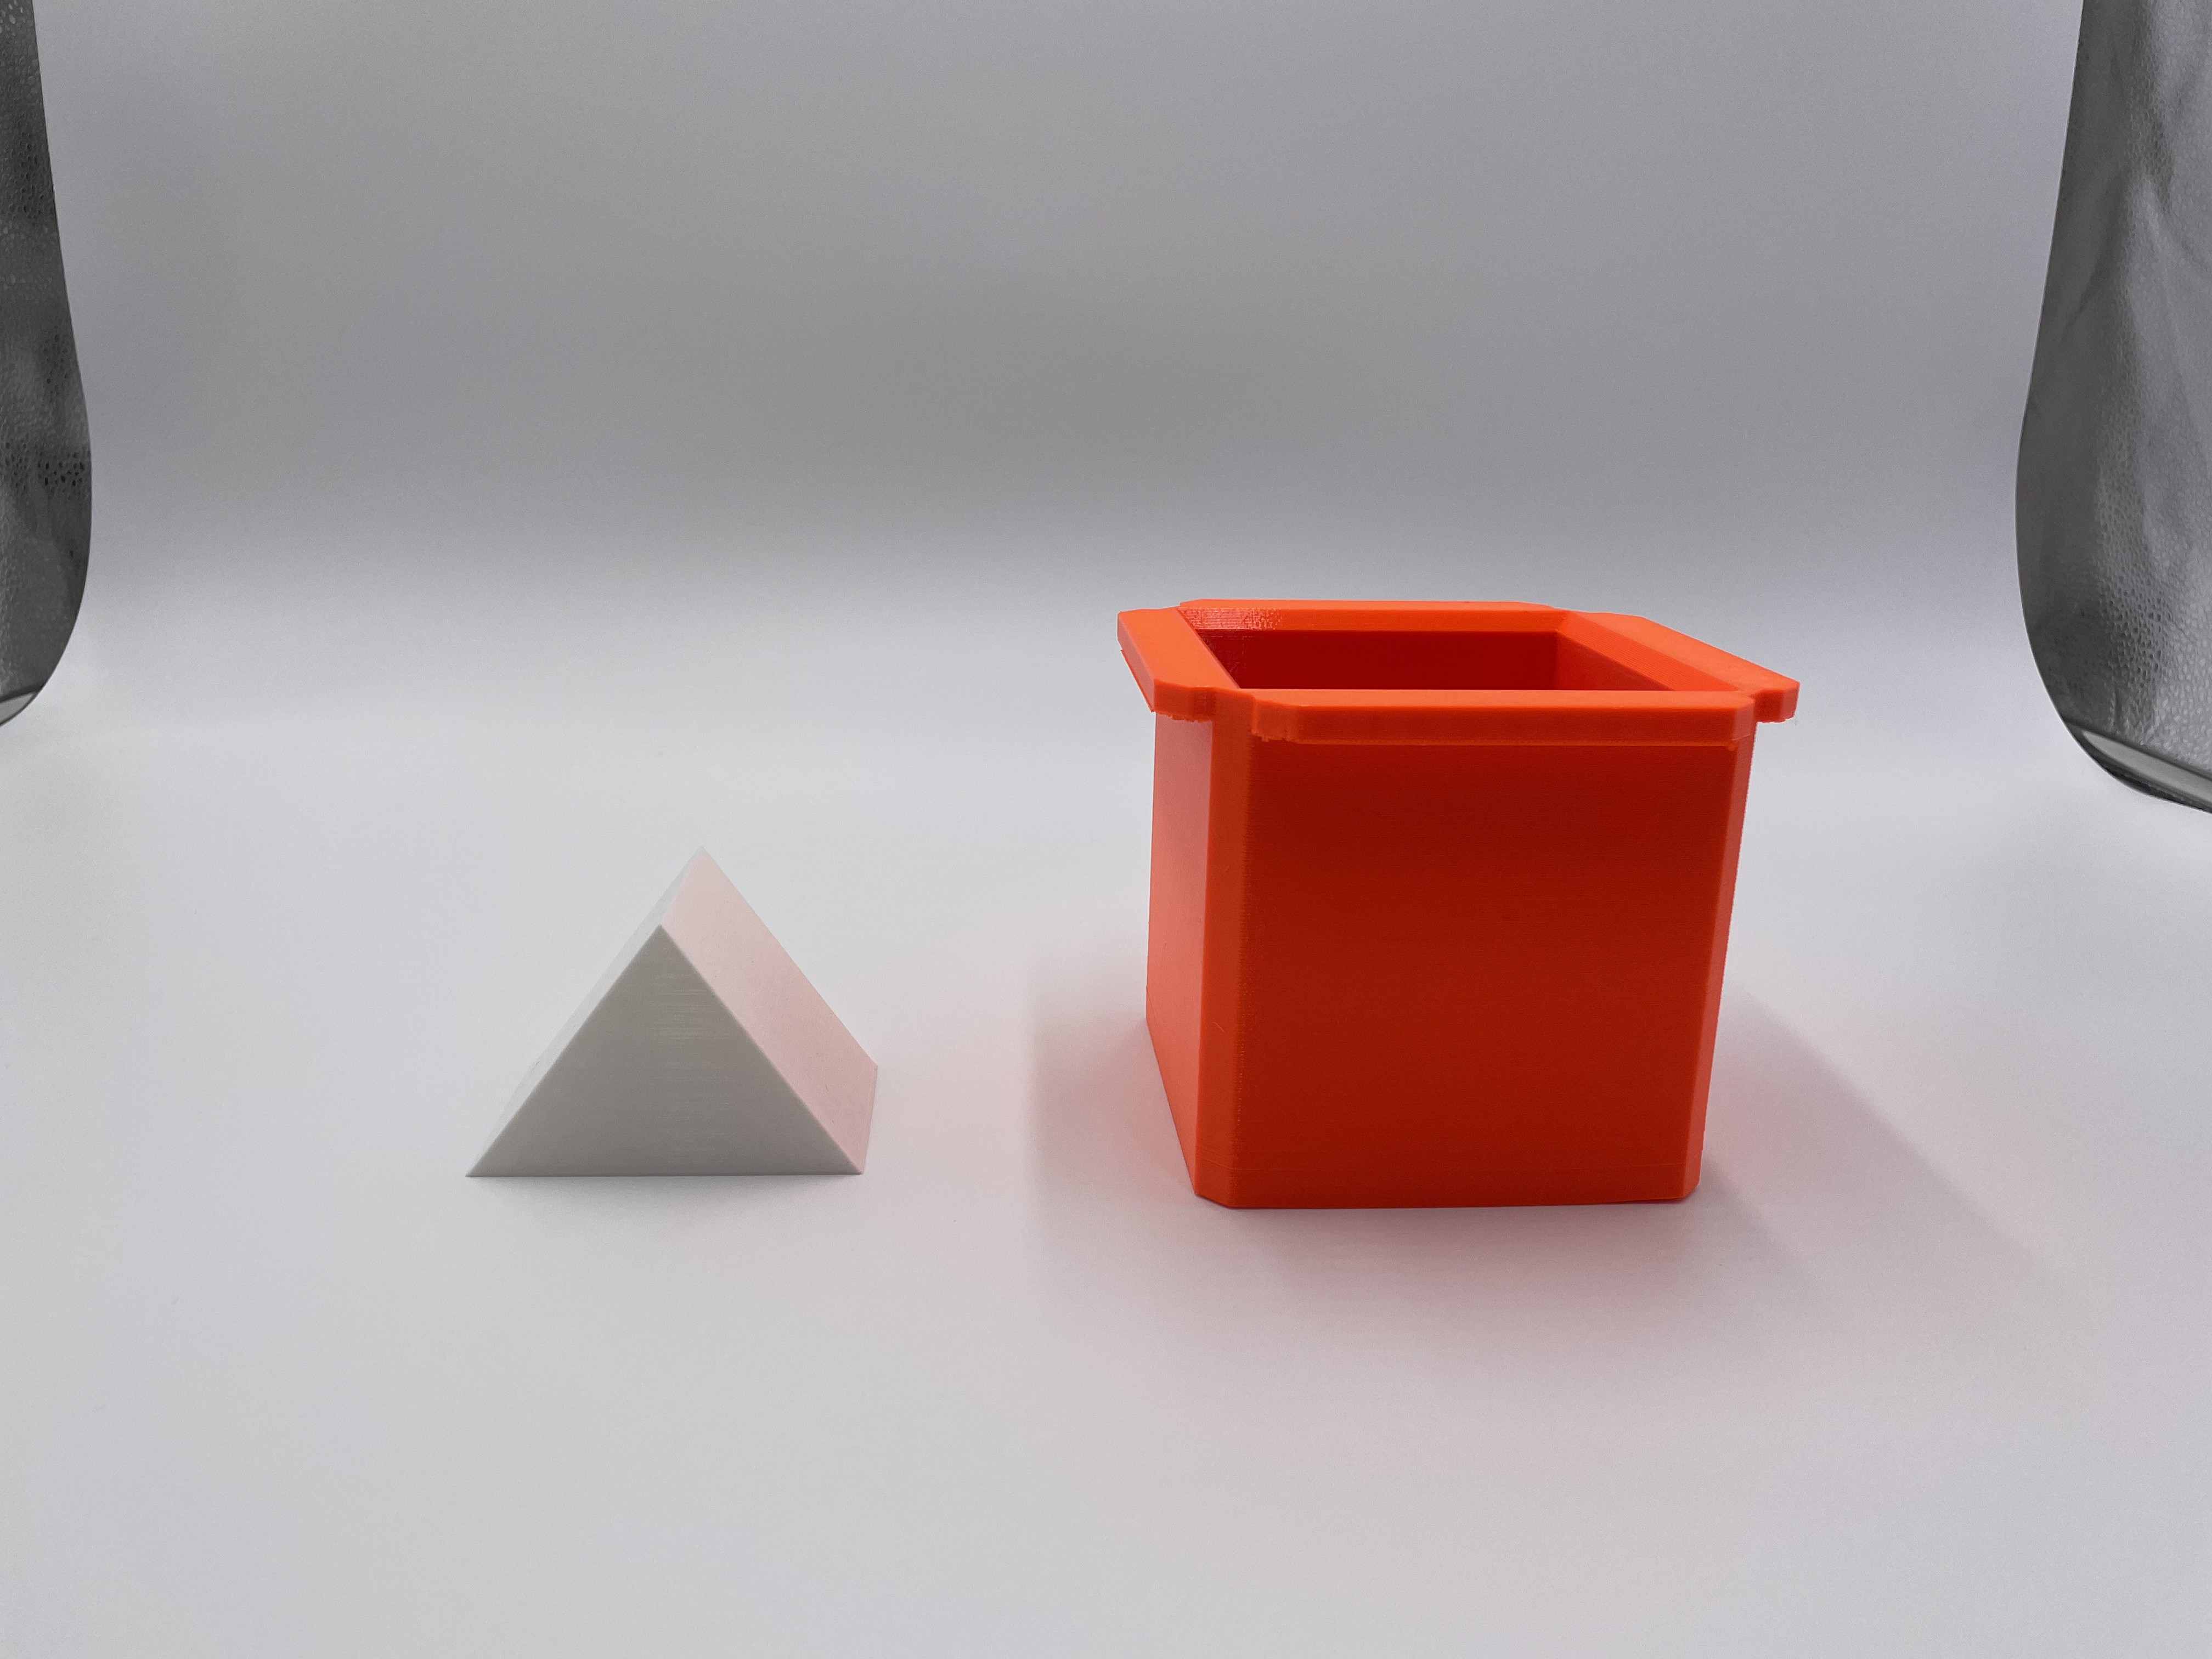payload1: (1103, 561, 1831, 1249)
payload2: (455, 835, 953, 1225)
